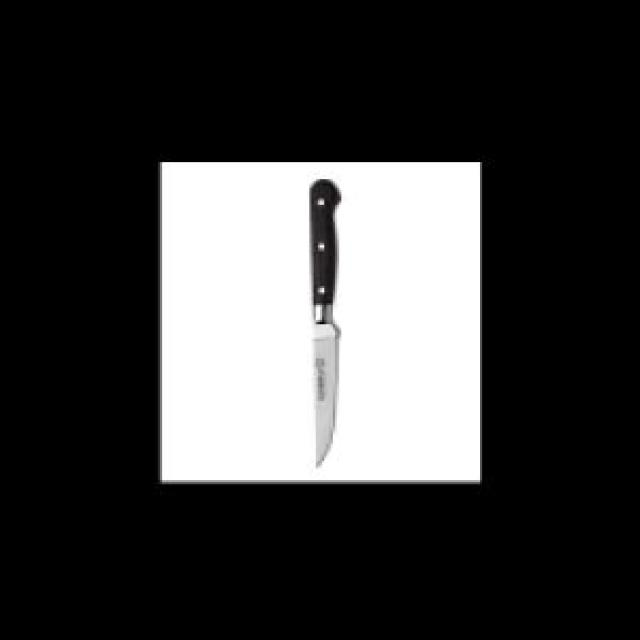knife: (303, 170, 350, 474)
